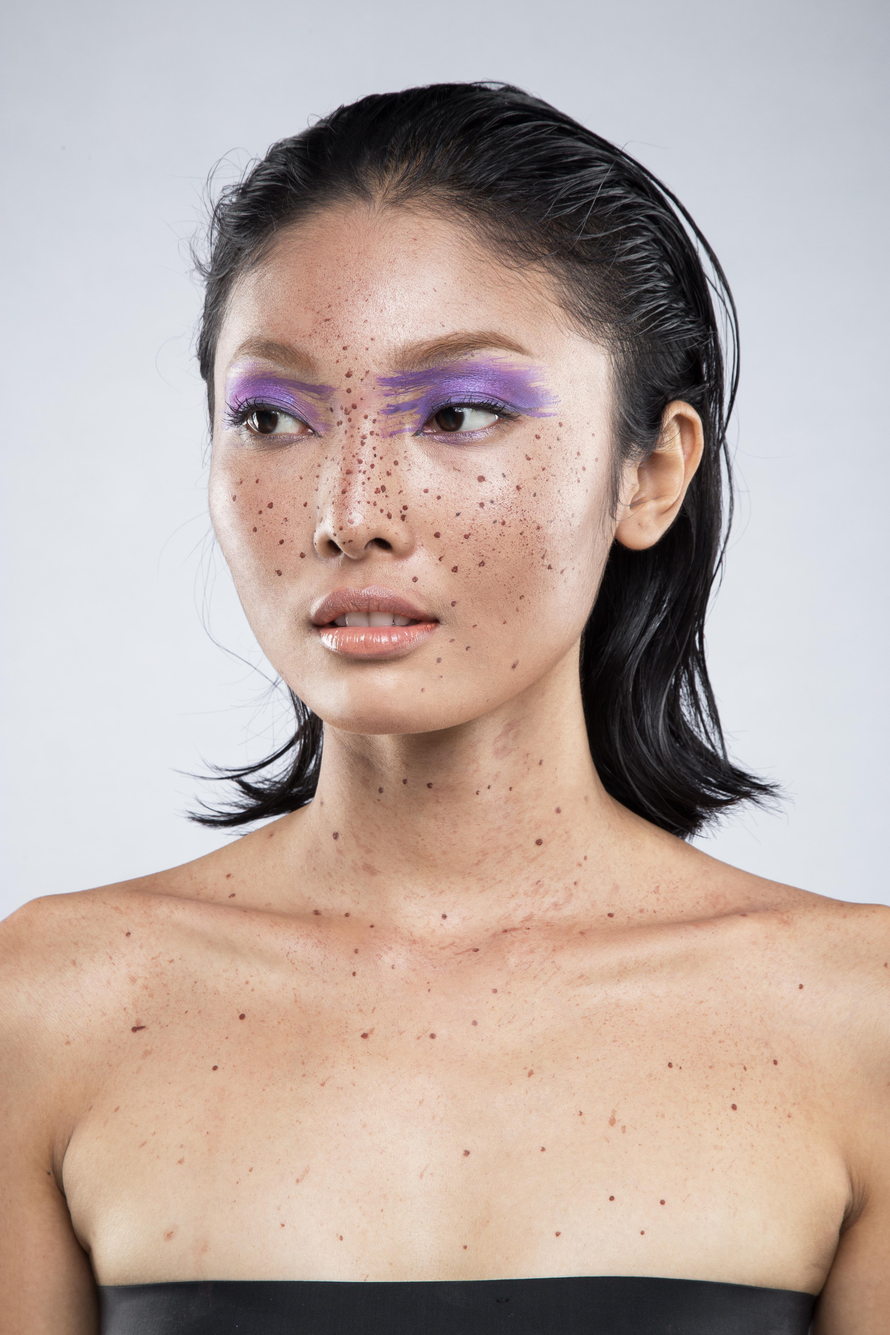Eyes: (401, 381, 522, 457), (217, 379, 324, 454)
